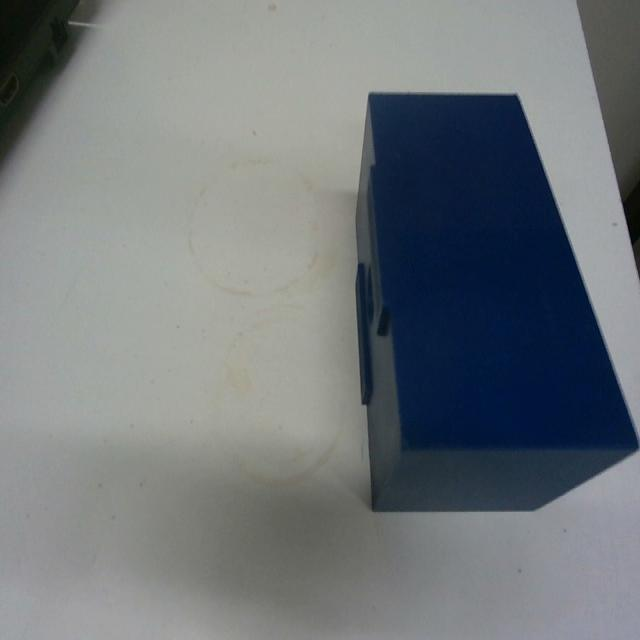Blue Cuboid: (351, 87, 639, 513)
